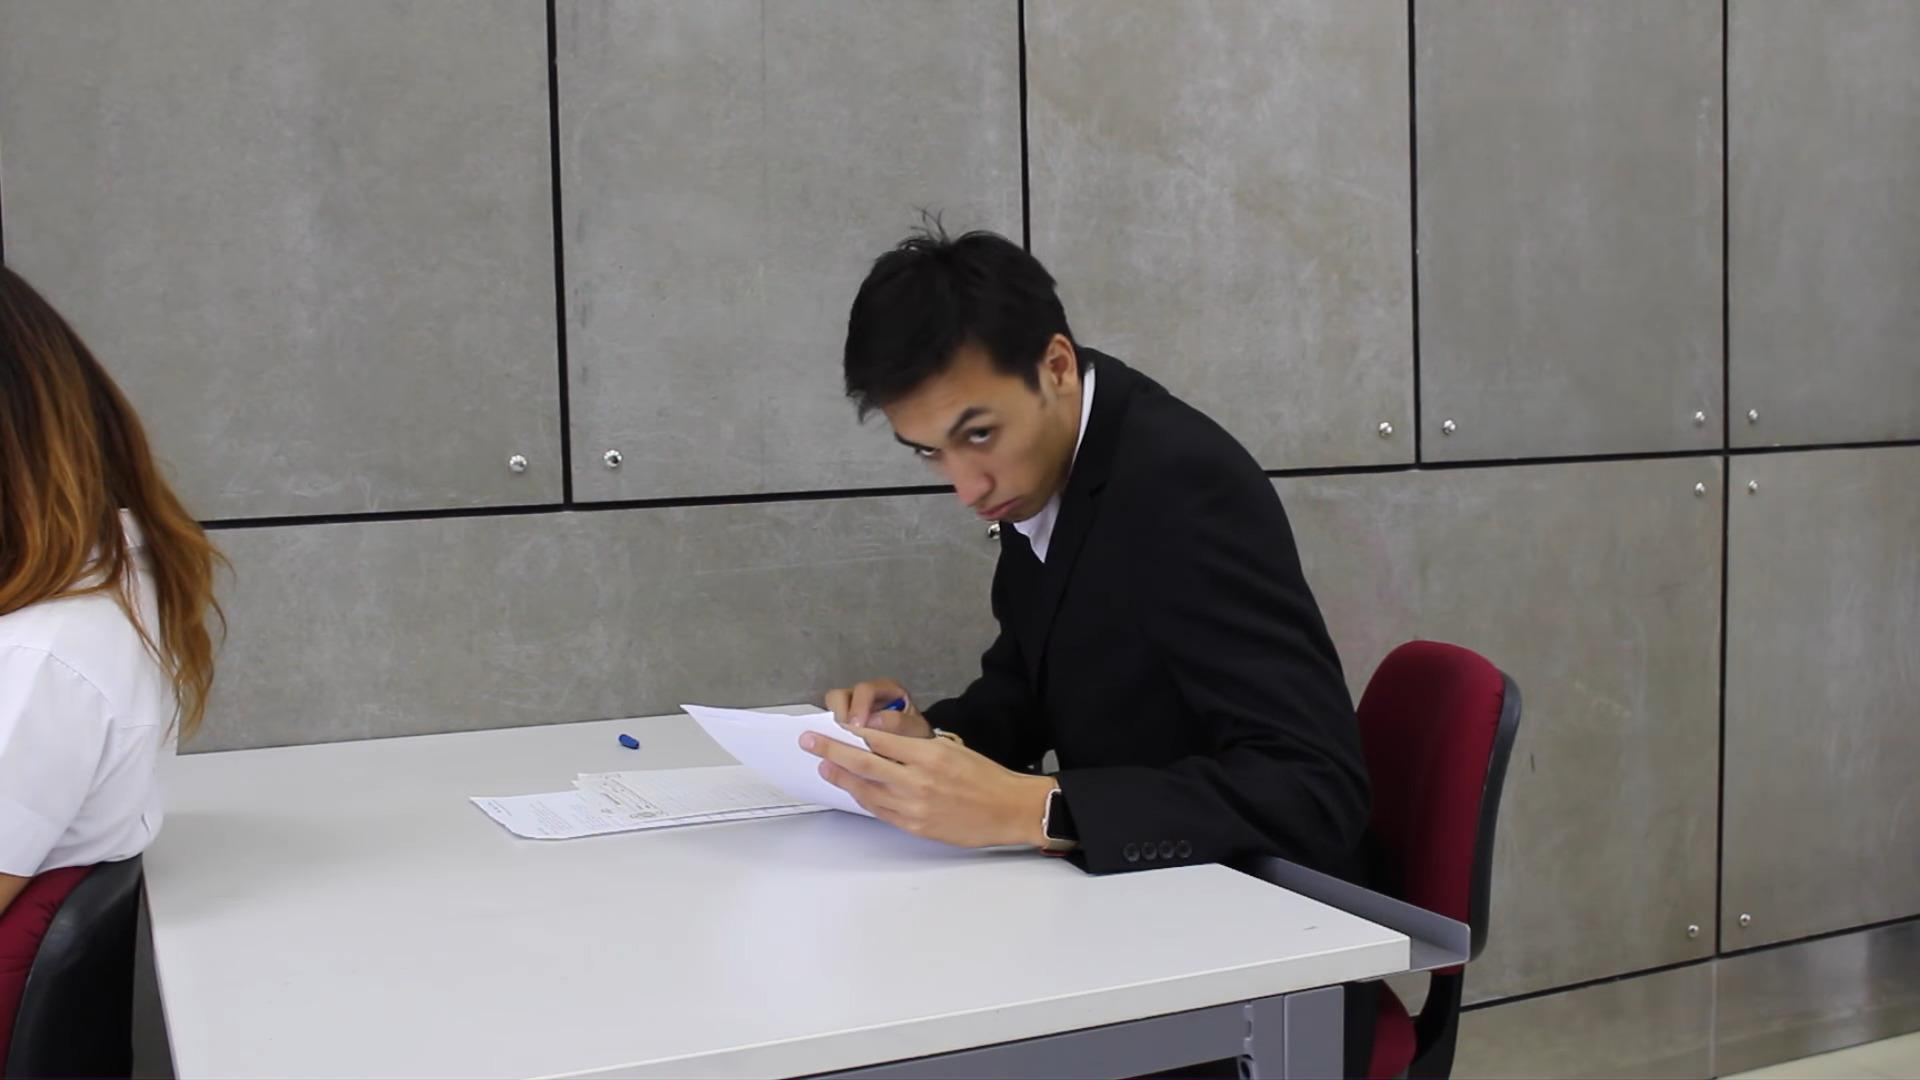cheating: (452, 193, 1411, 905)
